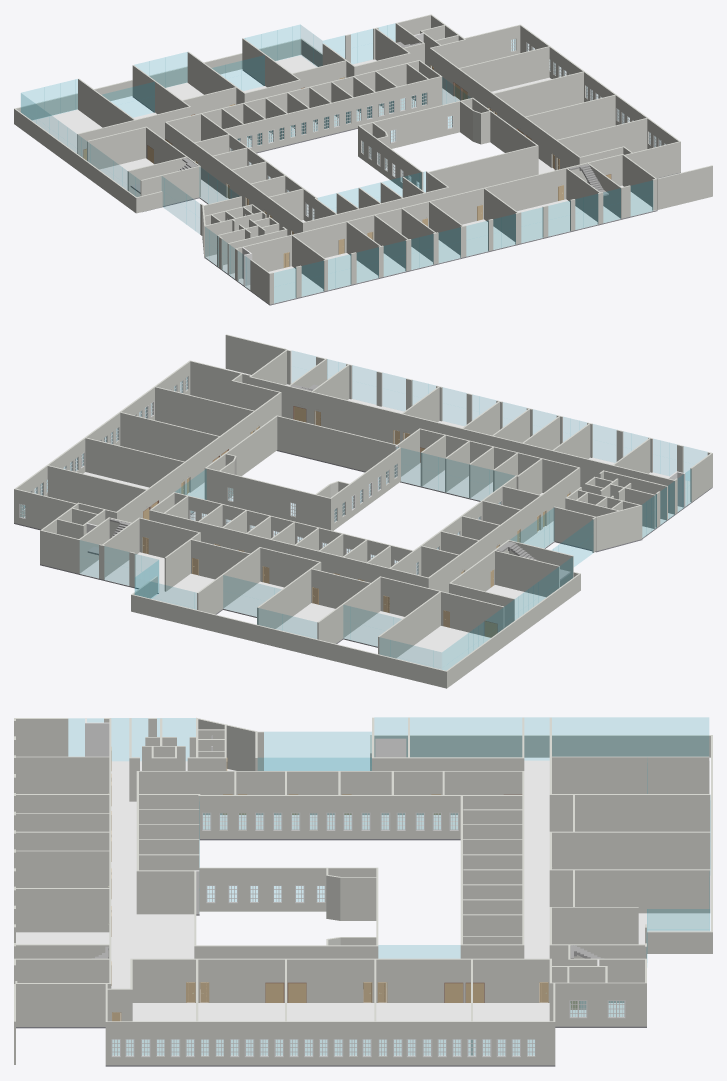
Rendered from 2L墙体.gltf.
3 views of the same model, one above another, from view 1: azimuth 30°, elevation 25°; view 2: azimuth 150°, elevation 25°; view 3: azimuth 270°, elevation 25° (orthographic). The views are drawn at different scales.
Parts seen in each view (by area): view 1: 常规 140 - 20+120 [756093], 常规 - 200mm [509249], 常规 - 200mm [520997], 常规 - 200mm [518119], 常规 - 200mm [520522], 常规 - 200mm [520660], 常规 - 200mm 2 [762891], 常规 - 200mm [518856], 常规 - 200mm [518592], 常规 - 200mm [734166], 常规 - 200mm [865480], 常规 - 200mm [761052] (+43 smaller); view 2: 常规 140 - 20+120 [756093], 常规 - 200mm [509249], 常规 - 200mm 2 [762891], 常规 - 200mm [518592], 常规 - 200mm [520660], 常规 - 200mm [520522], 常规 - 200mm [518119], 常规 - 200mm [518856], 常规 - 200mm [743040], 常规 - 200mm [734166], 常规 - 200mm [866374], 常规 - 200mm [761052] (+53 smaller); view 3: 常规 140 - 20+120 [756093], 常规 - 200mm [518119], 常规 - 200mm [734166], 常规 - 200mm [380813], 常规 - 200mm [520522], 常规 - 200mm 2 [762623], 常规 - 200mm [740289], 常规 - 200mm [522650], 常规 - 200mm [741482], 常规 - 200mm [516513], 常规 - 200mm [518989], 常规 - 200mm [510460] (+40 smaller).
Boxes of the visible parts, x1,y1,x2,y2 form: 常规 140 - 20+120 [756093]: (32, 55, 680, 305); 常规 - 200mm [509249]: (235, 154, 622, 279); 常规 - 200mm [520997]: (223, 76, 442, 152); 常规 - 200mm [518119]: (430, 48, 580, 170); 常规 - 200mm [520522]: (165, 122, 302, 235); 常规 - 200mm [520660]: (166, 60, 419, 142); 常规 - 200mm 2 [762891]: (15, 39, 301, 120); 常规 - 200mm [518856]: (429, 145, 537, 196); 常规 - 200mm [518592]: (358, 97, 473, 156); 常规 - 200mm [734166]: (520, 24, 679, 148); 常规 - 200mm [865480]: (459, 46, 549, 91); 常规 - 200mm [761052]: (525, 95, 615, 139); 常规 140 - 20+120 [756093]: (14, 384, 712, 670); 常规 - 200mm [509249]: (250, 376, 675, 514); 常规 - 200mm 2 [762891]: (132, 594, 445, 687); 常规 - 200mm [518592]: (204, 467, 331, 530); 常规 - 200mm [520660]: (149, 509, 427, 587); 常规 - 200mm [520522]: (427, 468, 579, 592); 常规 - 200mm [518119]: (116, 392, 281, 522); 常规 - 200mm [518856]: (277, 415, 396, 477); 常规 - 200mm [743040]: (380, 576, 504, 636); 常规 - 200mm [734166]: (14, 361, 190, 522); 常规 - 200mm [866374]: (85, 437, 184, 487); 常规 - 200mm [761052]: (120, 412, 219, 461); 常规 140 - 20+120 [756093]: (16, 760, 709, 1066); 常规 - 200mm [518119]: (130, 958, 549, 1002); 常规 - 200mm [734166]: (107, 1021, 555, 1065); 常规 - 200mm [380813]: (198, 795, 522, 838); 常规 - 200mm [520522]: (139, 771, 524, 814); 常规 - 200mm 2 [762623]: (374, 735, 712, 757); 常规 - 200mm [740289]: (549, 869, 710, 913); 常规 - 200mm [522650]: (549, 831, 710, 869); 常规 - 200mm [741482]: (549, 794, 710, 831); 常规 - 200mm [516513]: (552, 756, 709, 793); 常规 - 200mm [518989]: (199, 867, 376, 911); 常规 - 200mm [510460]: (16, 888, 109, 932).
Bounding box in the file's own units: 68.96 × 4.65 × 66.02.
